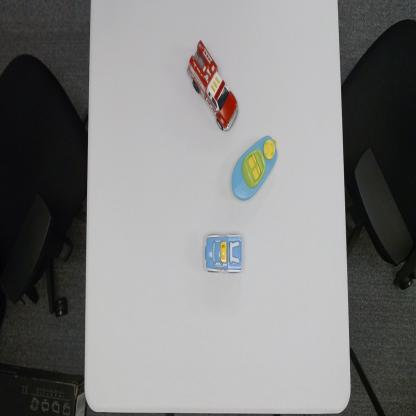Boat: (231, 134, 278, 203)
Car: (203, 232, 245, 276)
Firetruck: (185, 37, 240, 134)
